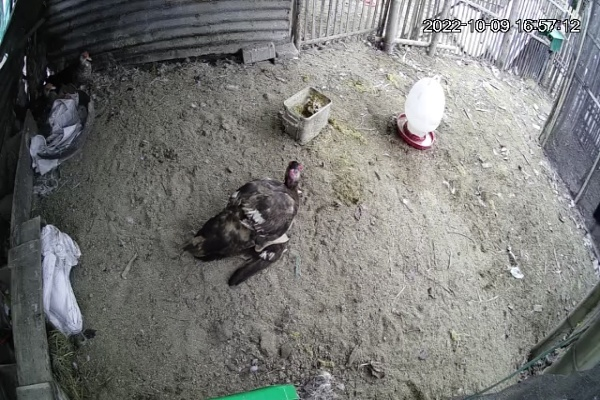Kawin: (179, 154, 312, 289)
